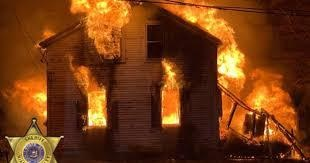fire: (159, 56, 178, 127), (29, 87, 47, 120)
